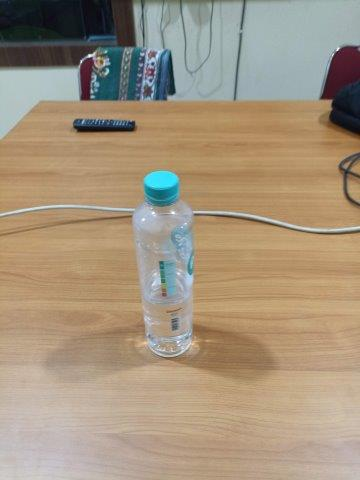botolplastik: (131, 170, 194, 358)
